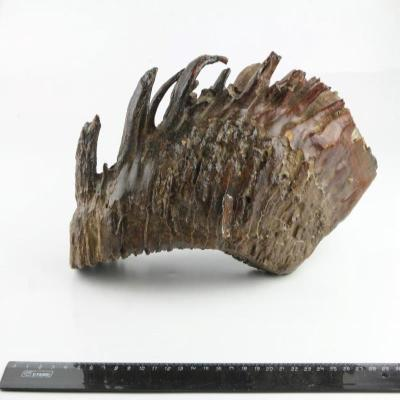natural_science_collection: (68, 53, 378, 277)
